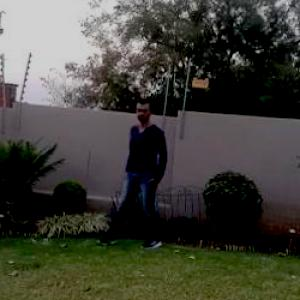follow: (119, 91, 180, 263)
